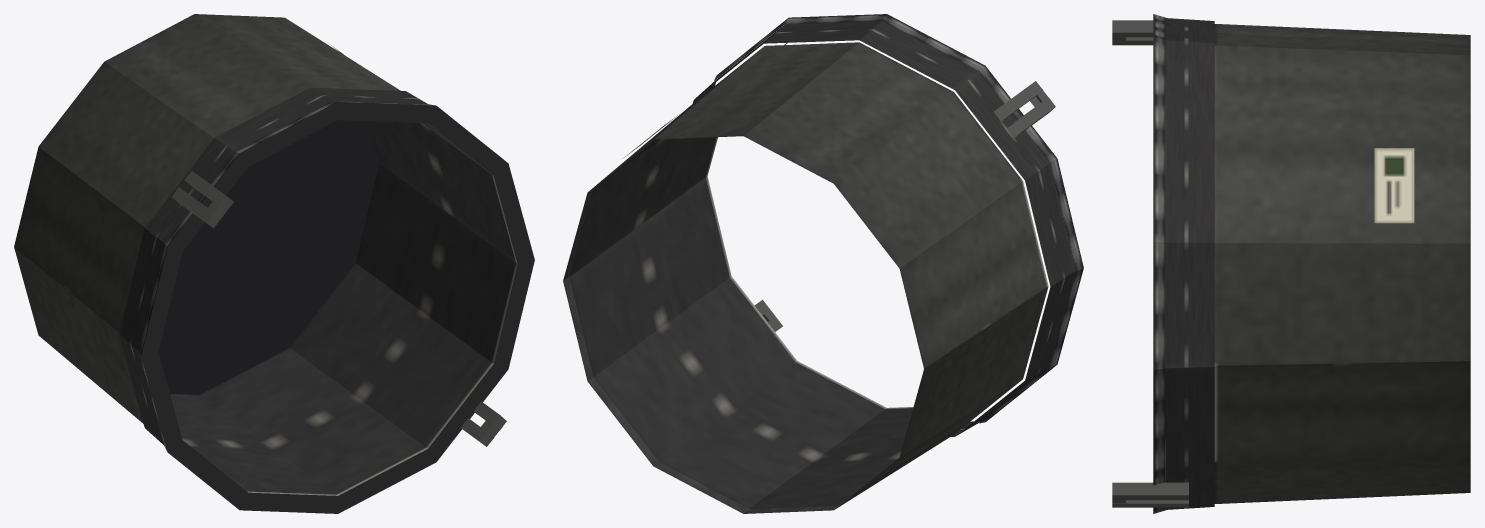
File: pot_bag_l_open.obj
3 renders of one model, left to right at view 1: azimuth 30°, elevation 25°; view 2: azimuth 150°, elevation 25°; view 3: azimuth 270°, elevation 25°, orthographic. The views are drawn at different scales.
Bounding box in the file's own units: 0.82 × 0.82 × 0.585.
Materials: 1 (1 with a texture image).
